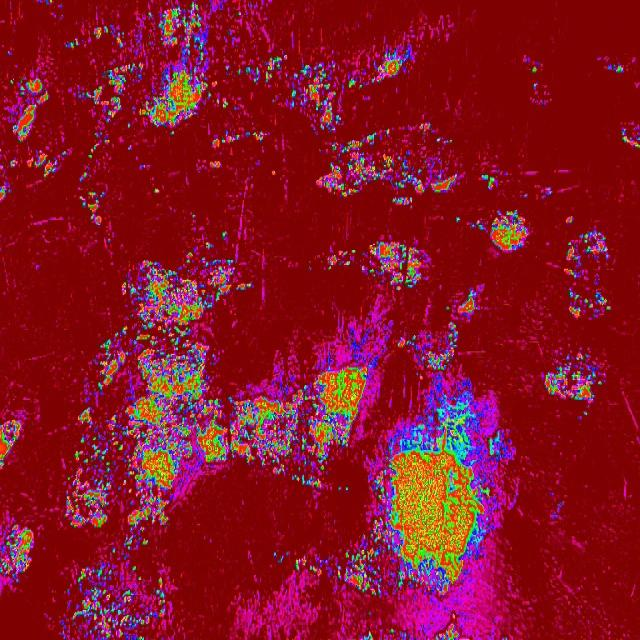fire: (98, 250, 232, 534), (367, 378, 512, 597), (290, 346, 366, 494), (316, 132, 460, 196), (56, 565, 165, 640), (232, 384, 292, 476), (143, 49, 211, 130), (65, 405, 99, 529), (564, 232, 612, 319), (85, 58, 144, 128), (287, 60, 341, 134), (544, 348, 604, 402), (398, 324, 459, 372), (8, 76, 51, 144), (366, 242, 426, 288), (157, 0, 210, 49), (0, 520, 33, 584), (334, 534, 368, 594), (488, 209, 530, 253), (368, 46, 418, 82), (235, 53, 287, 83), (210, 126, 266, 149), (0, 418, 24, 468), (323, 246, 367, 270), (77, 188, 106, 224), (24, 148, 59, 177), (458, 287, 483, 322), (292, 554, 328, 578), (96, 25, 128, 47), (88, 130, 110, 158), (38, 0, 66, 18), (621, 127, 640, 152), (434, 624, 460, 640), (124, 534, 150, 550), (232, 278, 255, 293), (482, 172, 497, 190), (468, 217, 486, 232), (392, 196, 414, 208), (606, 60, 624, 74), (271, 550, 287, 565), (78, 166, 90, 184), (346, 78, 364, 89), (8, 156, 20, 172), (65, 38, 79, 51), (1, 185, 12, 201), (215, 97, 229, 108), (209, 159, 223, 170), (420, 120, 432, 131), (362, 631, 376, 640), (545, 184, 553, 198), (366, 359, 376, 370), (531, 65, 540, 76), (270, 167, 279, 178), (562, 216, 574, 224), (220, 230, 229, 240), (140, 160, 149, 170), (202, 240, 213, 248), (78, 90, 86, 101), (448, 612, 458, 620), (62, 149, 71, 157), (389, 627, 396, 637), (152, 187, 162, 194), (223, 65, 231, 73), (170, 129, 178, 137), (532, 81, 538, 91), (147, 10, 153, 20), (6, 48, 12, 58), (583, 409, 590, 417), (235, 10, 242, 18), (125, 146, 132, 153), (110, 547, 116, 555), (456, 216, 462, 224), (190, 211, 196, 219), (501, 634, 509, 640), (445, 306, 451, 313), (106, 237, 112, 244), (270, 98, 276, 104), (524, 192, 528, 200), (386, 128, 392, 132)
